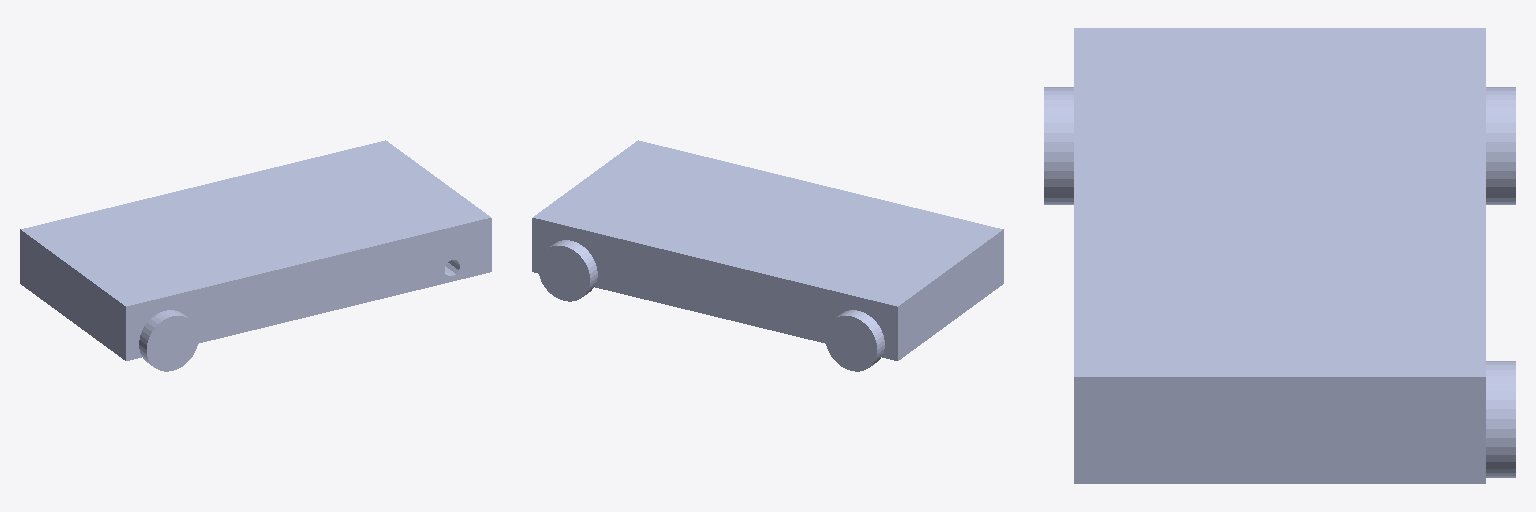
robot.urdf — simple_car:
<?xml version="1.0" encoding="utf-8"?>
<!-- This URDF was automatically created by SolidWorks to URDF Exporter! Originally created by [author] ([email redacted]) 
     Commit Version: 1.5.1-0-g916b5db  Build Version: 1.5.7152.31018
     For more information, please see http://wiki.ros.org/sw_urdf_exporter -->
<robot
  name="simple_car">
  <link name="base_footprint">
  </link>

  <joint name="fixed" type="fixed">
    <origin xyz="0 0 0.005" rpy="0 0 0"/>
    <parent link="base_footprint"/>
    <child link="base_link"/>
  </joint>

  <link
    name="base_link">
    <inertial>
      <origin
        xyz="0 -9.7145E-17 0.010103"
        rpy="0 0 0" />
      <mass
        value="0.19204" />
      <inertia
        ixx="8.484E-05"
        ixy="1.781E-20"
        ixz="-5.8812E-21"
        iyy="0.00031457"
        iyz="-7.5483E-19"
        izz="0.00038657" />
    </inertial>
    <visual>
      <origin
        xyz="0 0 0"
        rpy="0 0 0" />
      <geometry>
        <mesh
          filename="package://simple_car/meshes/base_link.STL" />
      </geometry>
      <material
        name="">
        <color
          rgba="0.79216 0.81961 0.93333 1" />
      </material>
    </visual>
    <collision>
      <origin
        xyz="0 0 0"
        rpy="0 0 0" />
      <geometry>
        <mesh
          filename="package://simple_car/meshes/base_link.STL" />
      </geometry>
    </collision>
  </link>
  <link
    name="left_front_wheel">
    <inertial>
      <origin
        xyz="-1.3878E-16 -3.4694E-18 -0.0029128"
        rpy="0 0 0" />
      <mass
        value="0.0017122" />
      <inertia
        ixx="4.6397E-08"
        ixy="7.122E-26"
        ixz="-5.1078E-24"
        iyy="4.6397E-08"
        iyz="5.7964E-25"
        izz="7.9176E-08" />
    </inertial>
    <visual>
      <origin
        xyz="0 0 0"
        rpy="0 0 0" />
      <geometry>
        <mesh
          filename="package://simple_car/meshes/left_front_wheel.STL" />
      </geometry>
      <material
        name="">
        <color
          rgba="0.79216 0.81961 0.93333 1" />
      </material>
    </visual>
    <collision>
      <origin
        xyz="0 0 0"
        rpy="0 0 0" />
      <geometry>
        <mesh
          filename="package://simple_car/meshes/left_front_wheel.STL" />
      </geometry>
    </collision>
  </link>
  <joint
    name="left_front_joint"
    type="continuous">
    <origin
      xyz="0.055 0.04 0.005"
      rpy="-1.5708 0 0" />
    <parent
      link="base_link" />
    <child
      link="left_front_wheel" />
    <axis
      xyz="0 0 1" />
  </joint>
  <link
    name="left_rear_wheel">
    <inertial>
      <origin
        xyz="0 0 -0.0029128"
        rpy="0 0 0" />
      <mass
        value="0.0017122" />
      <inertia
        ixx="4.6397E-08"
        ixy="-1.4364E-38"
        ixz="-1.1502E-24"
        iyy="4.6397E-08"
        iyz="-4.2867E-25"
        izz="7.9176E-08" />
    </inertial>
    <visual>
      <origin
        xyz="0 0 0"
        rpy="0 0 0" />
      <geometry>
        <mesh
          filename="package://simple_car/meshes/left_rear_wheel.STL" />
      </geometry>
      <material
        name="">
        <color
          rgba="0.79216 0.81961 0.93333 1" />
      </material>
    </visual>
    <collision>
      <origin
        xyz="0 0 0"
        rpy="0 0 0" />
      <geometry>
        <mesh
          filename="package://simple_car/meshes/left_rear_wheel.STL" />
      </geometry>
    </collision>
  </link>
  <joint
    name="left_rear_joint"
    type="continuous">
    <origin
      xyz="-0.055 0.04 0.005"
      rpy="-1.5708 0 0" />
    <parent
      link="base_link" />
    <child
      link="left_rear_wheel" />
    <axis
      xyz="0 0 1" />
  </joint>
  <link
    name="right_rear_wheel">
    <inertial>
      <origin
        xyz="-1.3878E-17 0 0.0029128"
        rpy="0 0 0" />
      <mass
        value="0.0017122" />
      <inertia
        ixx="4.6397E-08"
        ixy="1.4275E-38"
        ixz="1.1654E-24"
        iyy="4.6397E-08"
        iyz="-4.6261E-25"
        izz="7.9176E-08" />
    </inertial>
    <visual>
      <origin
        xyz="0 0 0"
        rpy="0 0 0" />
      <geometry>
        <mesh
          filename="package://simple_car/meshes/right_rear_wheel.STL" />
      </geometry>
      <material
        name="">
        <color
          rgba="0.79216 0.81961 0.93333 1" />
      </material>
    </visual>
    <collision>
      <origin
        xyz="0 0 0"
        rpy="0 0 0" />
      <geometry>
        <mesh
          filename="package://simple_car/meshes/right_rear_wheel.STL" />
      </geometry>
    </collision>
  </link>
  <joint
    name="right_rear_joint"
    type="continuous">
    <origin
      xyz="-0.055 -0.04 0.005"
      rpy="-1.5708 0 0" />
    <parent
      link="base_link" />
    <child
      link="right_rear_wheel" />
    <axis
      xyz="0 0 1" />
  </joint>
  <link
    name="right_front_wheel">
    <inertial>
      <origin
        xyz="0 0 0.0029128"
        rpy="0 0 0" />
      <mass
        value="0.0017122" />
      <inertia
        ixx="4.6397E-08"
        ixy="-1.3109E-38"
        ixz="-1.0445E-24"
        iyy="4.6397E-08"
        iyz="-4.6261E-25"
        izz="7.9176E-08" />
    </inertial>
    <visual>
      <origin
        xyz="0 0 0"
        rpy="0 0 0" />
      <geometry>
        <mesh
          filename="package://simple_car/meshes/right_front_wheel.STL" />
      </geometry>
      <material
        name="">
        <color
          rgba="0.79216 0.81961 0.93333 1" />
      </material>
    </visual>
    <collision>
      <origin
        xyz="0 0 0"
        rpy="0 0 0" />
      <geometry>
        <mesh
          filename="package://simple_car/meshes/right_front_wheel.STL" />
      </geometry>
    </collision>
  </link>
  <joint
    name="right_front_joint"
    type="continuous">
    <origin
      xyz="0.055 -0.04 0.005"
      rpy="-1.5708 0 0" />
    <parent
      link="base_link" />
    <child
      link="right_front_wheel" />
    <axis
      xyz="0 0 1" />
  </joint>
</robot>

--- What the picture shows (computed from the rendered views, not written in the file) ---
The picture shows the robot from 3 angles, left to right: view 1: azimuth 30°, elevation 25°; view 2: azimuth 150°, elevation 25°; view 3: azimuth 270°, elevation 25°; orthographic projection.
Model simple_car with 6 links and 5 joints (4 continuous, 1 fixed), rooted at base_footprint, posed every joint at zero.
Visible links, largest first — view 1: base_link, right_rear_wheel; view 2: base_link, left_rear_wheel, left_front_wheel; view 3: base_link, left_rear_wheel, right_rear_wheel, left_front_wheel.
Link boxes in pixels (x1,y1,x2,y2): base_link: (20,140,491,360); right_rear_wheel: (139,310,198,371); base_link: (532,140,1003,360); left_rear_wheel: (825,310,884,371); left_front_wheel: (538,240,597,301); base_link: (1074,28,1485,483); left_rear_wheel: (1486,87,1515,204); right_rear_wheel: (1044,87,1073,204); left_front_wheel: (1486,361,1515,477).
Size in the robot's own frame: 0.14 by 0.08 by 0.025 metres.
Meshes: 5 distinct files referenced, 4 mesh visuals loaded (4 binary STL); not drawn: 1 (reference not matched to a file when rendering).